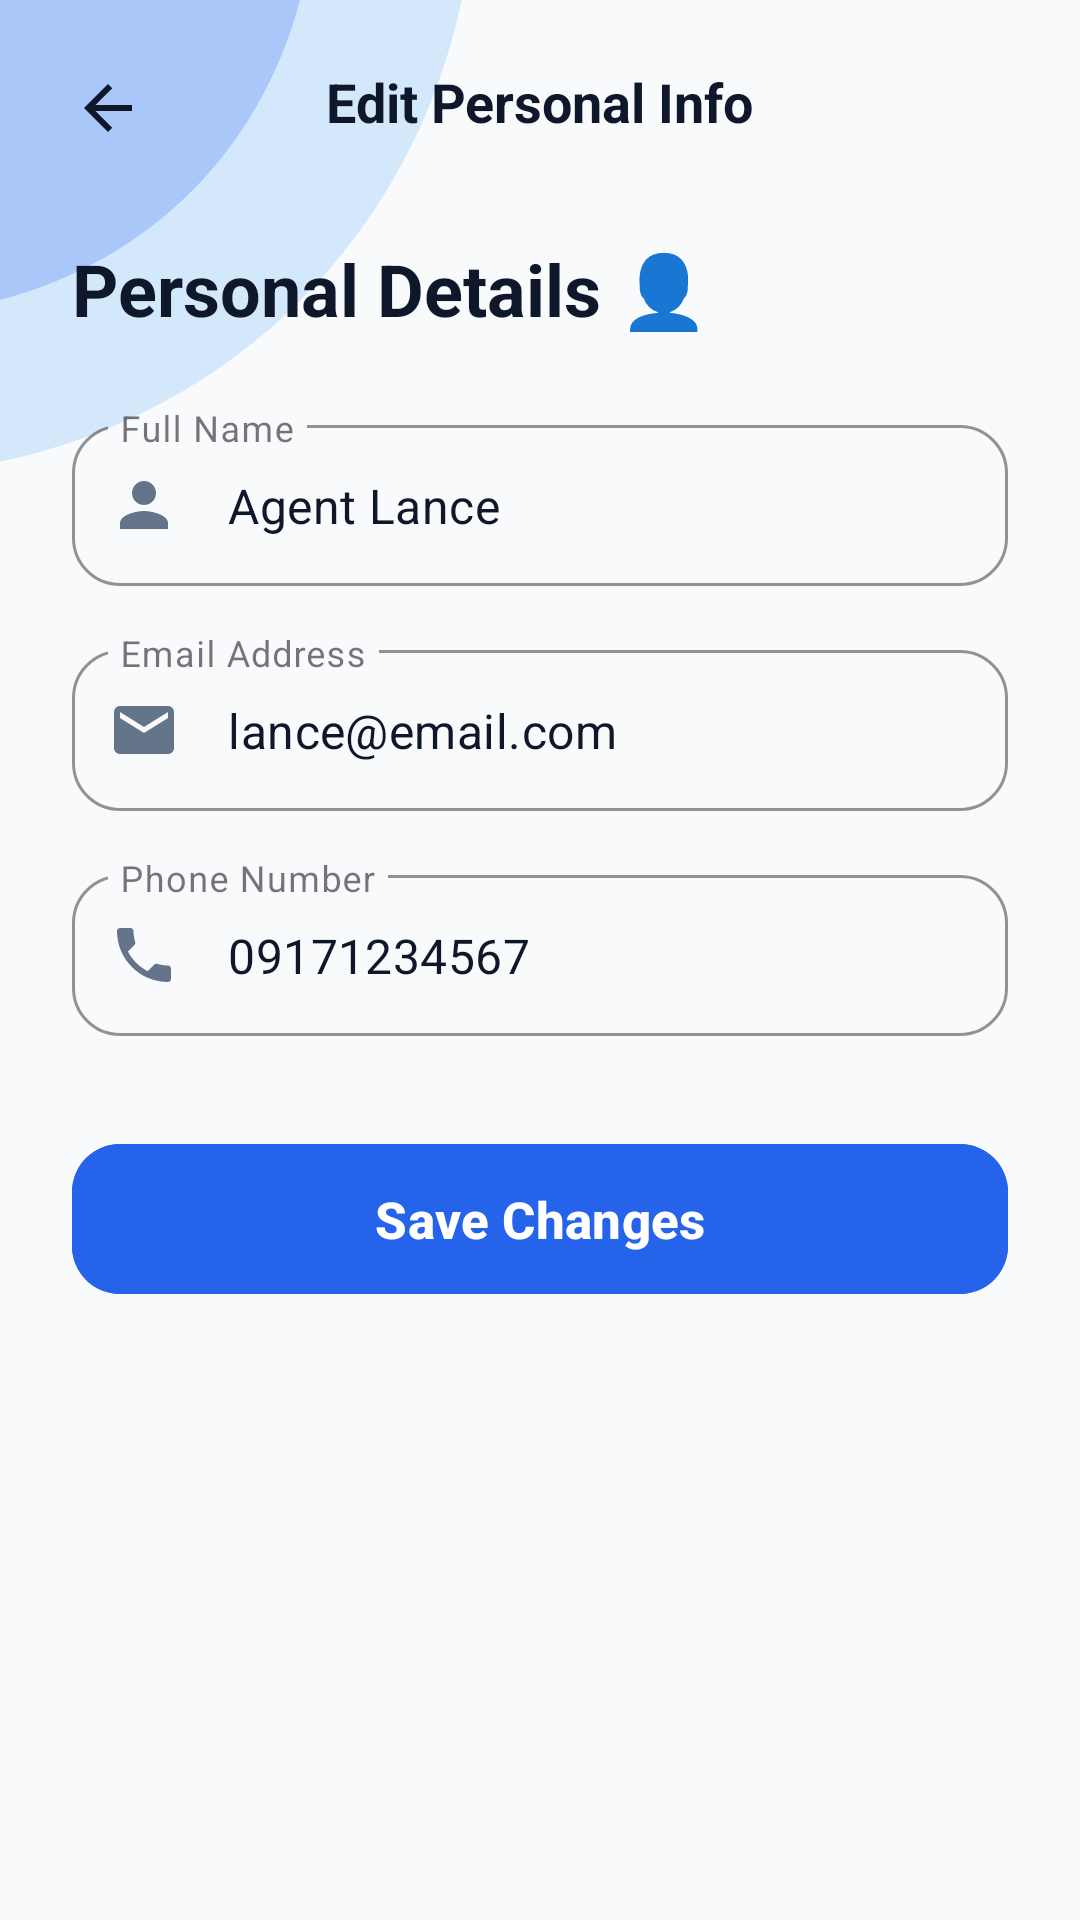

Named icons in this screenshot (1080 x 1920) and their centers, (x,y):
Back Button: (108,108)
